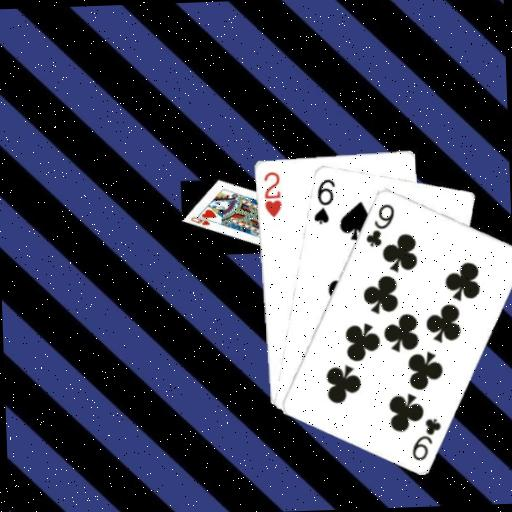2H: (260, 167, 283, 218)
6S: (309, 175, 338, 226)
9C: (407, 413, 444, 462), (361, 199, 397, 248)
